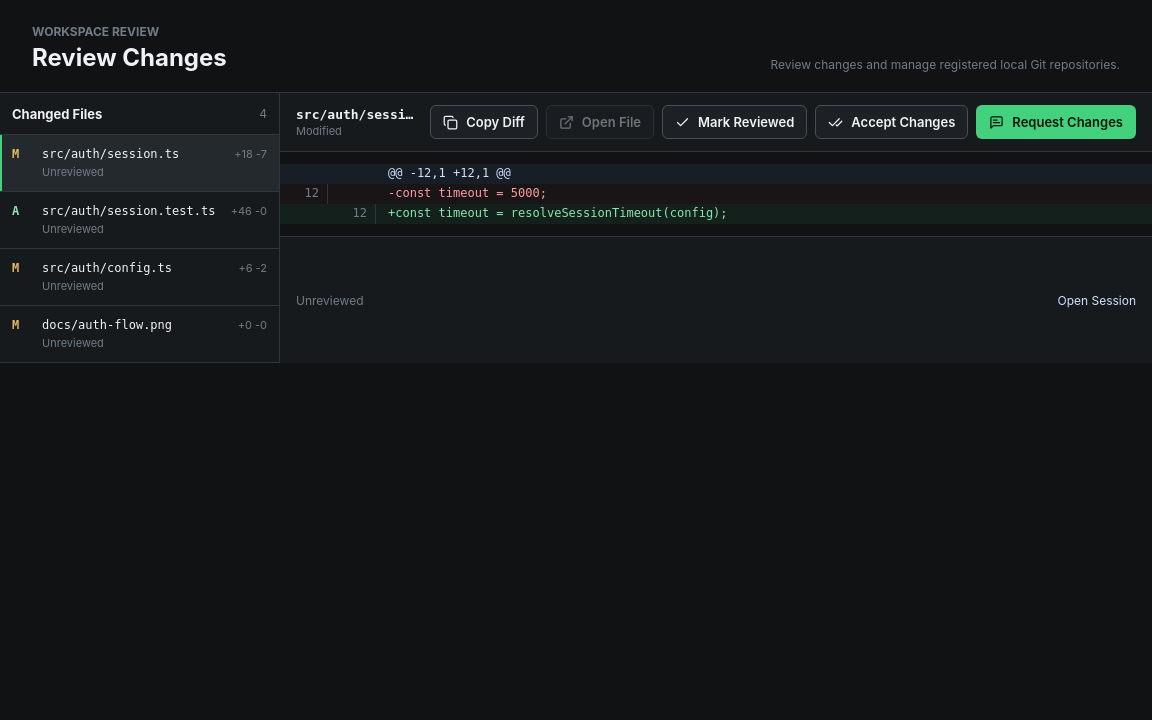
Scenario: ChangesPage › keeps review feedback available when persistence fails
The image size is (1152, 720).
Click the button "Request Changes" at {"x": 1056, "y": 122}, box [976,105,1136,139]
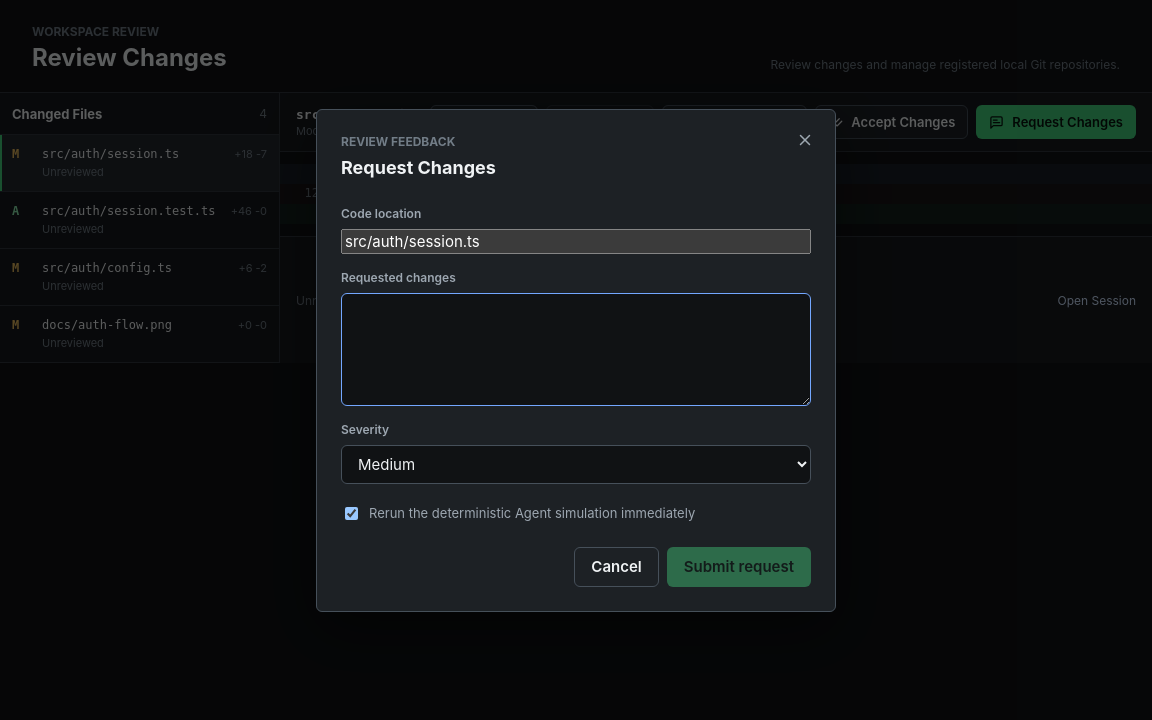
Type "Keep this feedback for retry." into the text box labelled "Requested changes" at {"x": 576, "y": 349}, box [341,292,811,406]
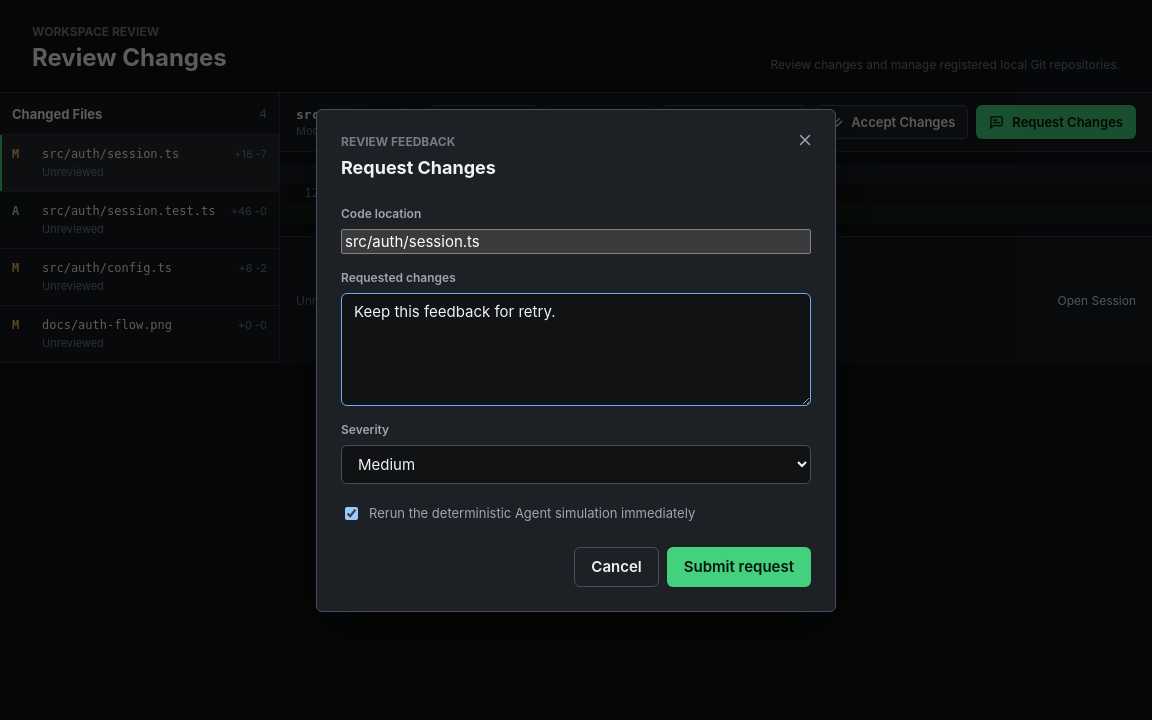
Click the button "Submit request" at {"x": 739, "y": 566}, box [667,546,811,586]
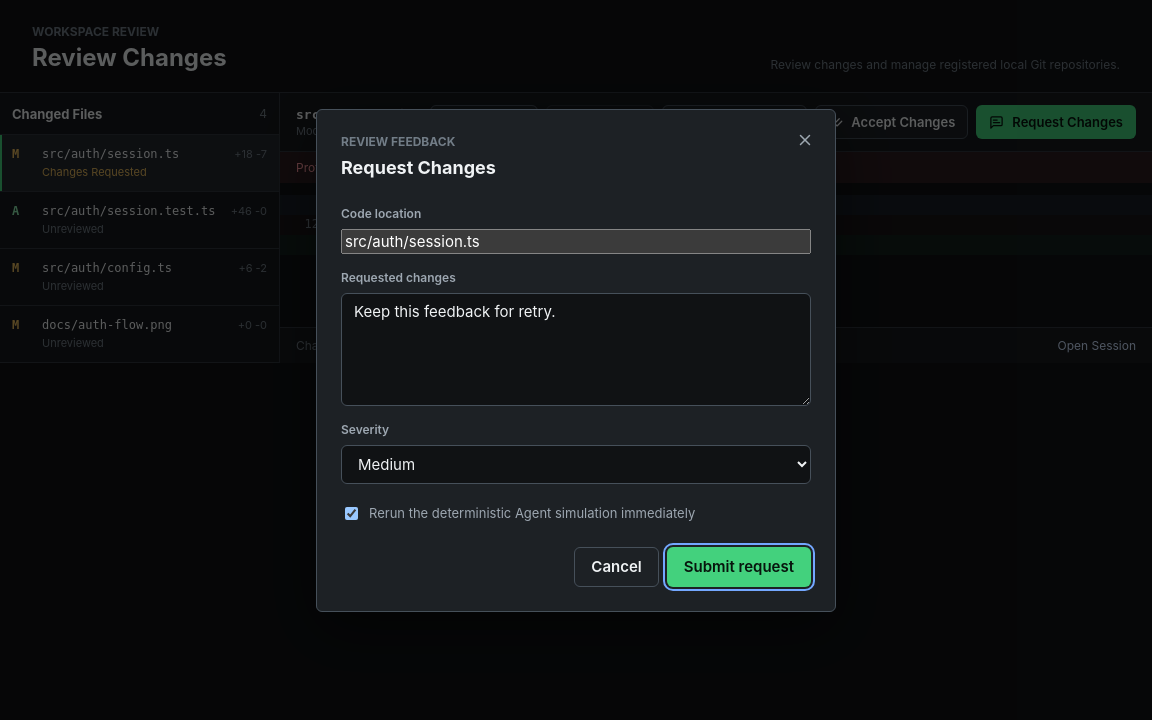
Result: the form "Request Changes" is shown at [316,108,836,612]
Result: the message reads "Prototype store unavailable." at [296,160,454,175]
